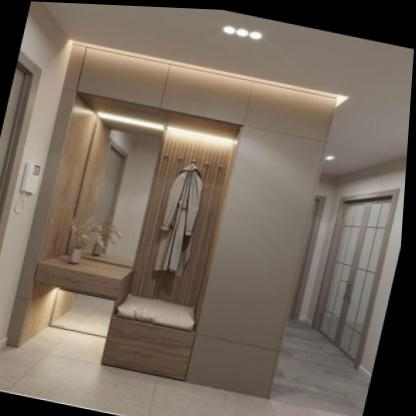Ceramic floor: (0, 297, 375, 416)
